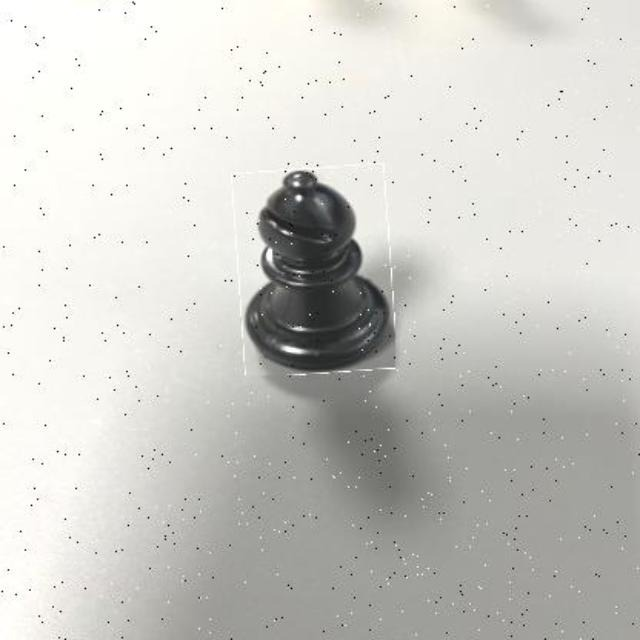black-bishop: (235, 165, 395, 374)
